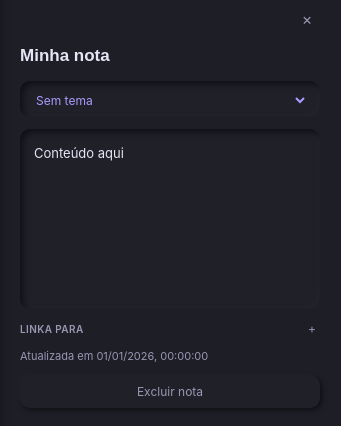
Scenario: NotaDetalhe › mostra o conteúdo em modo de visualização e entra em edição ao clicar
The image size is (341, 426).
Click the text "Conteúdo aqui" at (79, 153), box [34,145,124,161]
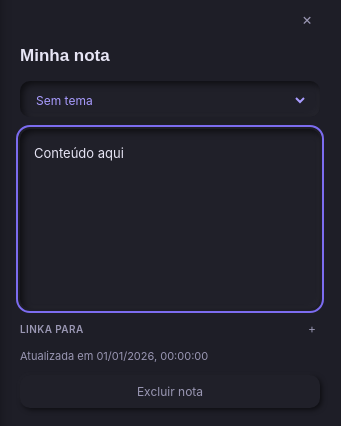
Now the text box with placeholder "Escreve o conteúdo da nota" is shown, box [20,129,320,309]
